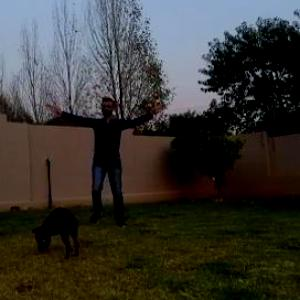takeoff: (37, 95, 160, 234)
